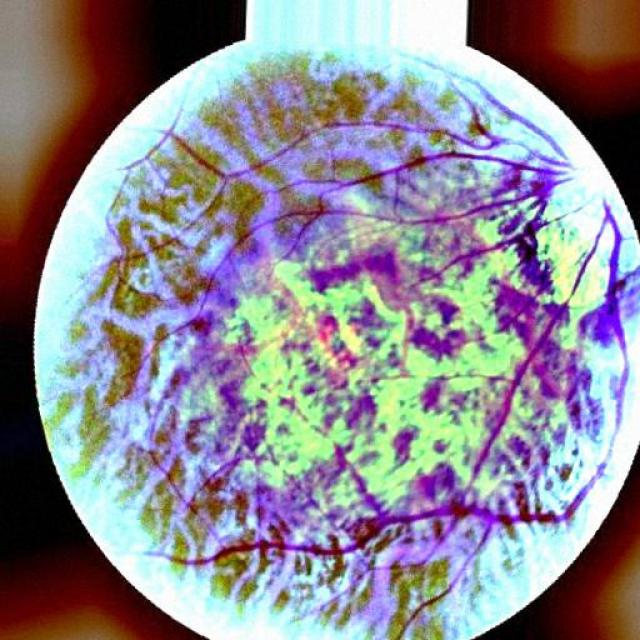Macula: (306, 242, 401, 341)
Nerves: (322, 147, 568, 189), (597, 209, 627, 451), (476, 86, 564, 160)
Optic Disk: (496, 93, 639, 388)
